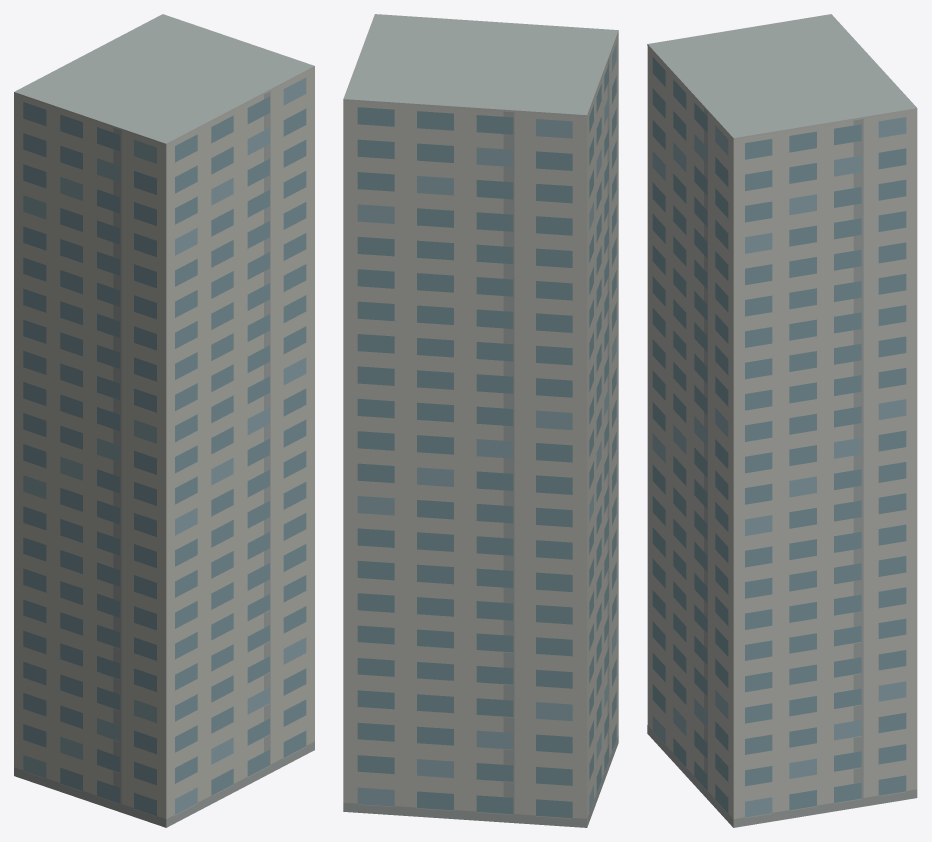
File: residential-9e8a342f-c852-4b15-9395-1e856ddeb4a2.glb
The picture shows the model from 3 angles, left to right: view 1: azimuth 30°, elevation 25°; view 2: azimuth 150°, elevation 25°; view 3: azimuth 270°, elevation 25°; orthographic projection. The views are drawn at different scales.
Parts seen in each view (by area): view 1: residential-9e8a342f-c852-4b15-9395-1e856ddeb4a2.tmp; view 2: residential-9e8a342f-c852-4b15-9395-1e856ddeb4a2.tmp; view 3: residential-9e8a342f-c852-4b15-9395-1e856ddeb4a2.tmp.
Boxes of the visible parts, bbox=[...] form: residential-9e8a342f-c852-4b15-9395-1e856ddeb4a2.tmp: bbox=[14, 14, 314, 827]; residential-9e8a342f-c852-4b15-9395-1e856ddeb4a2.tmp: bbox=[343, 14, 618, 827]; residential-9e8a342f-c852-4b15-9395-1e856ddeb4a2.tmp: bbox=[647, 14, 917, 827].
Size of the model in its own units: 33.59 by 87 by 30.87.
